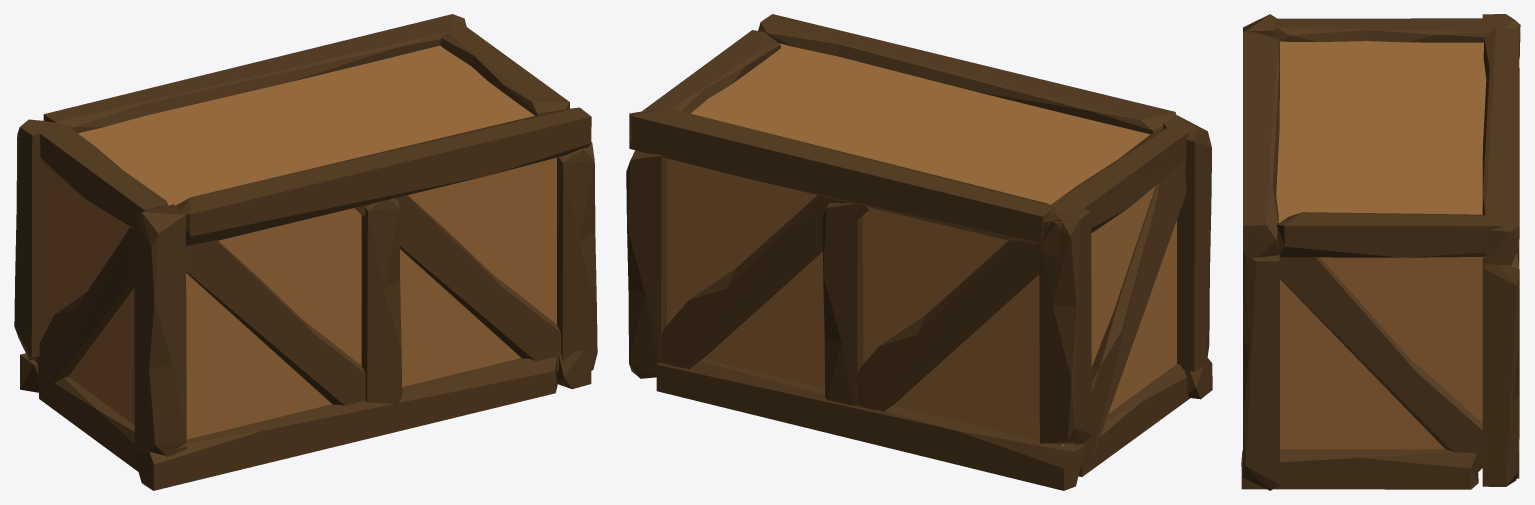
Rendered from SM_crate_02.fbx.
3 renders of one model, left to right at view 1: azimuth 30°, elevation 25°; view 2: azimuth 150°, elevation 25°; view 3: azimuth 270°, elevation 25°, orthographic.
Visible parts, largest first — view 1: Box41332; view 2: Box41332; view 3: Box41332.
Boxes of the visible parts, left/top/right/bottom form: Box41332: left=14, top=14, right=597, bottom=490; Box41332: left=626, top=14, right=1212, bottom=490; Box41332: left=1241, top=14, right=1520, bottom=490.
Bounding box in the file's own units: 63.39 × 36.47 × 34.64.
